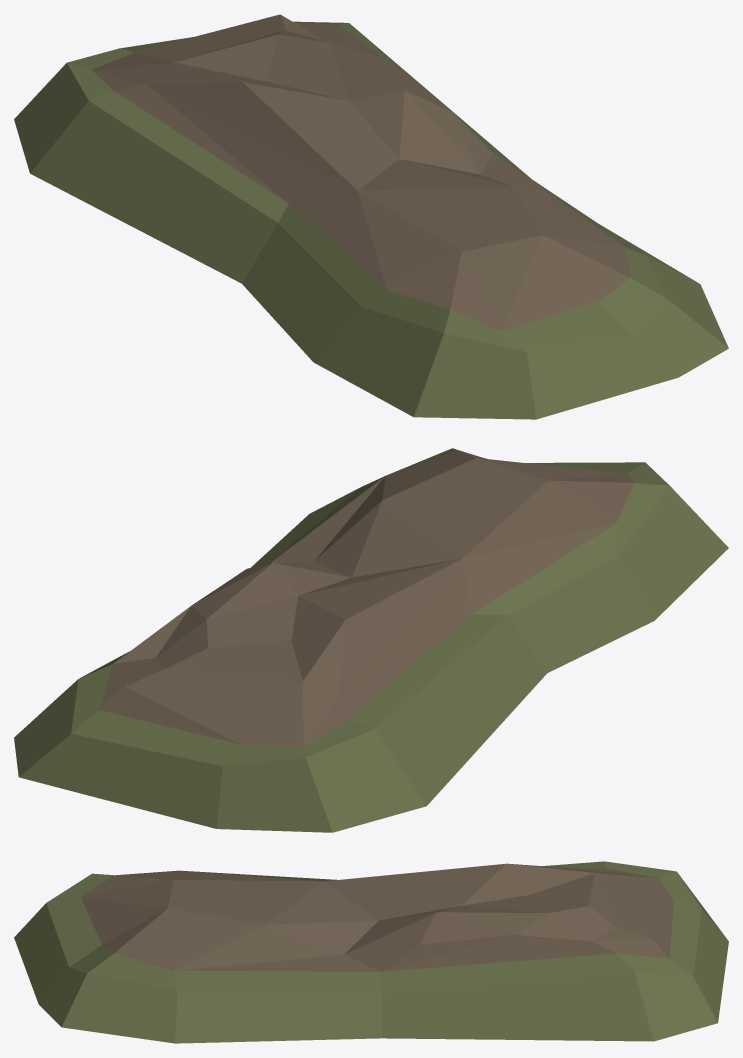
The model's file is kingdom_SM_Prop_Gravestone_Dirt_01.gltf.
3 views of the same model, one above another, from view 1: azimuth 30°, elevation 25°; view 2: azimuth 150°, elevation 25°; view 3: azimuth 270°, elevation 25° (orthographic). The views are drawn at different scales.
Visible parts, largest first — view 1: SM_Prop_Gravestone_Dirt_01; view 2: SM_Prop_Gravestone_Dirt_01; view 3: SM_Prop_Gravestone_Dirt_01.
Boxes of the visible parts, x1,y1,x2,y2 form: SM_Prop_Gravestone_Dirt_01: (14,14,728,419); SM_Prop_Gravestone_Dirt_01: (14,448,728,832); SM_Prop_Gravestone_Dirt_01: (14,861,728,1043).
Size of the model in its own units: 1.61 by 0.4355 by 3.21.
1 material, 1 textured.
